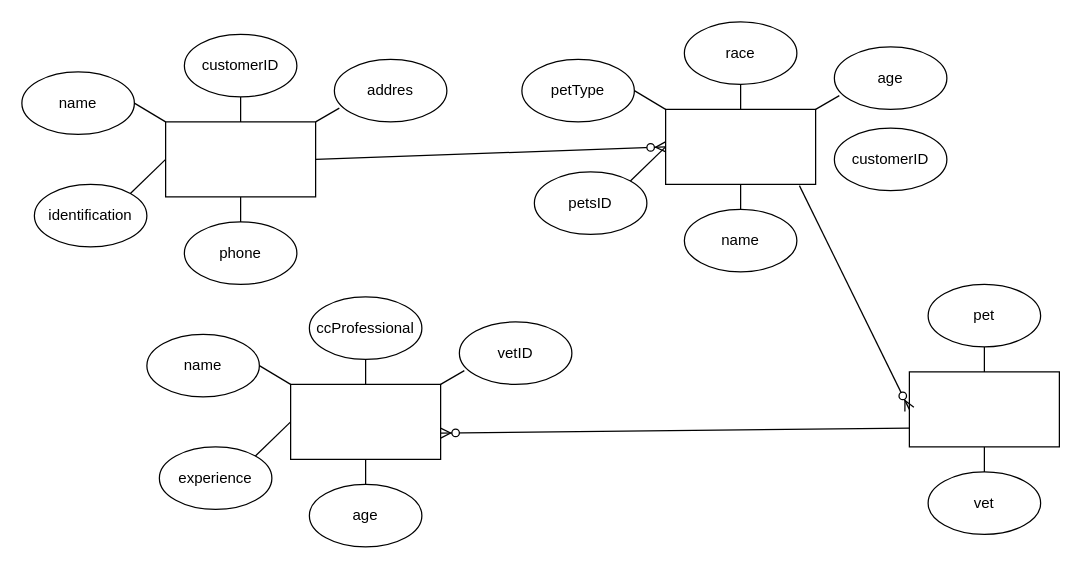
Some shapes in this 1081 by 569 pixel diagram are drawn without their labels. The shapes that lost their labels are listed below. From the top down, each one's centre as x and y in pixels, then its label:
[240,159]: Customer
[740,146]: Pets
[365,421]: Vets
[983,409]: Attention
